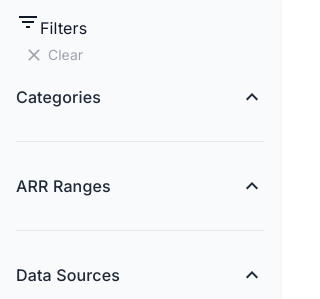
Test case: FilterPanel › handles filter section collapse/expand
Click the button "Categories": (58, 97) [16,85,264,109]
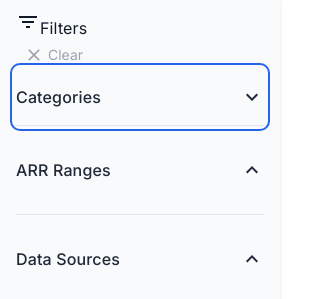
Expected: the button "Categories" is collapsed, [16,85,264,109]
